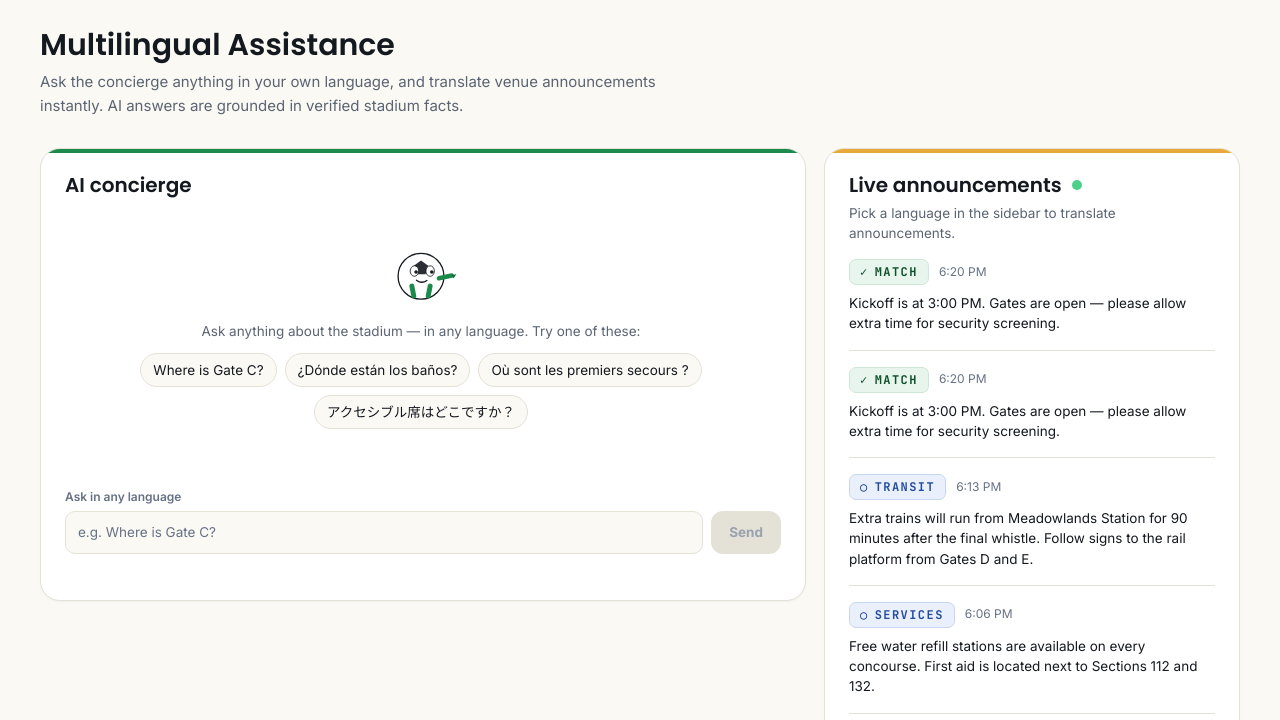
Test: MultilingualAssistanceScreen — concierge send flow › sends a message and renders the reply with its detected language
Type "¿Dónde está la Puerta C?" into the field labelled "Ask in any language". click: (384, 532)
box: [65,511,703,554]
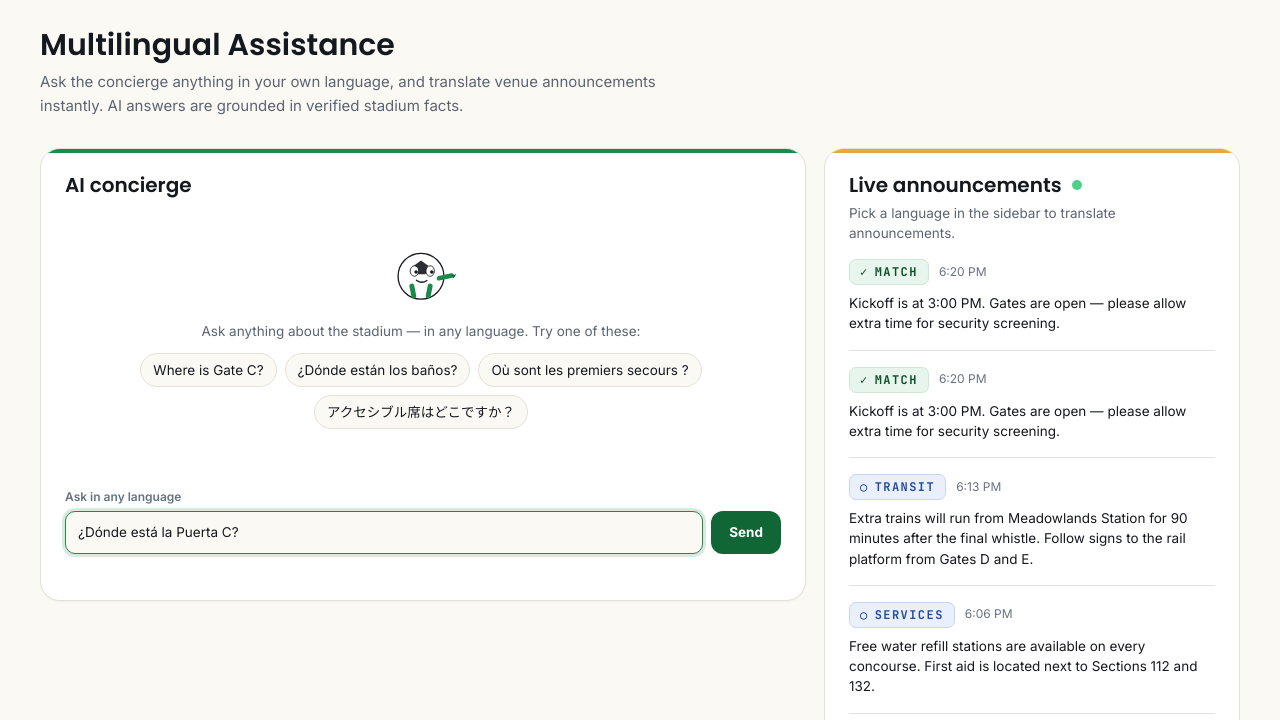
Click the button "Send". click: click(746, 532)
box: [711,511,781,554]
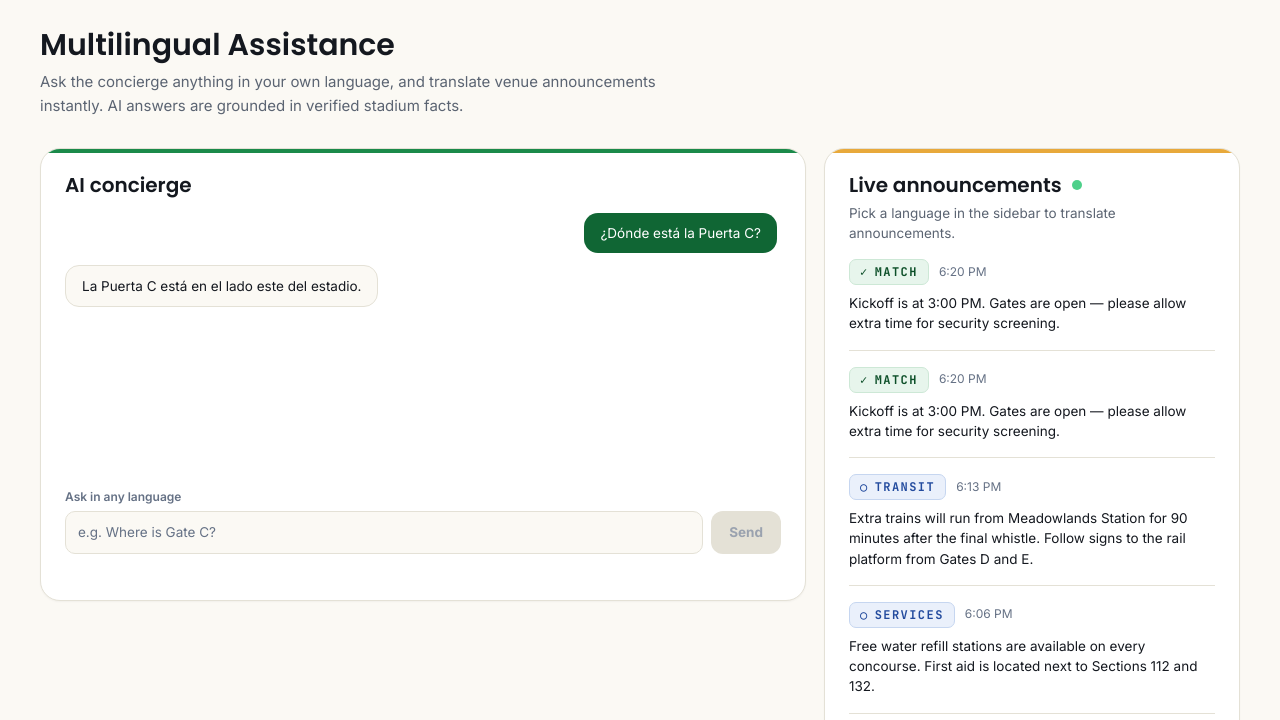
Check: the text "¿Dónde está la Puerta C?" is shown, box [600,222,761,243]
